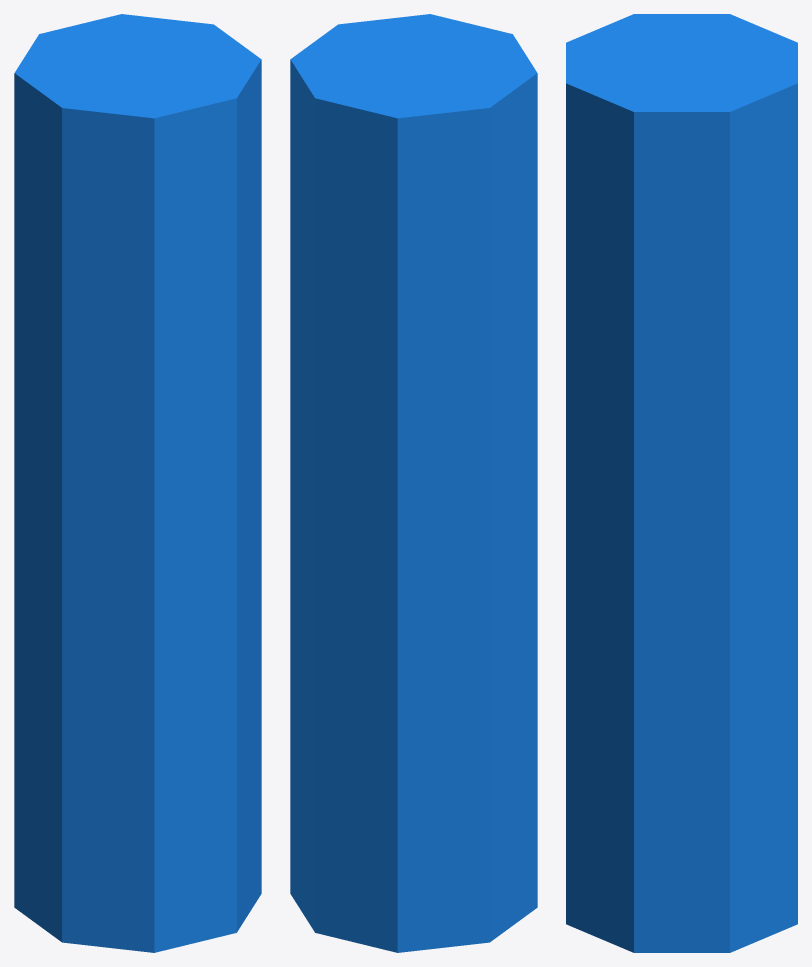
File: Proto_Block_Column_Octagon_01.fbx
The picture shows the model from 3 angles, left to right: view 1: azimuth 30°, elevation 25°; view 2: azimuth 150°, elevation 25°; view 3: azimuth 270°, elevation 25°; orthographic projection.
Visible parts, largest first — view 1: Proto_Block_Column_Octagon_01; view 2: Proto_Block_Column_Octagon_01; view 3: Proto_Block_Column_Octagon_01.
Boxes of the visible parts, left/top/right/bottom form: Proto_Block_Column_Octagon_01: left=14, top=14, right=261, bottom=952; Proto_Block_Column_Octagon_01: left=290, top=14, right=537, bottom=952; Proto_Block_Column_Octagon_01: left=566, top=14, right=797, bottom=952.
Size of the model in its own units: 0.5 by 2 by 0.5.
